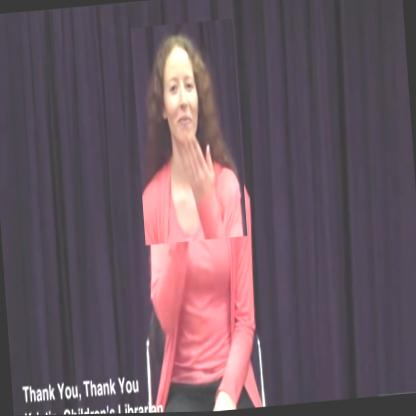ThankYou: (131, 20, 248, 247)
